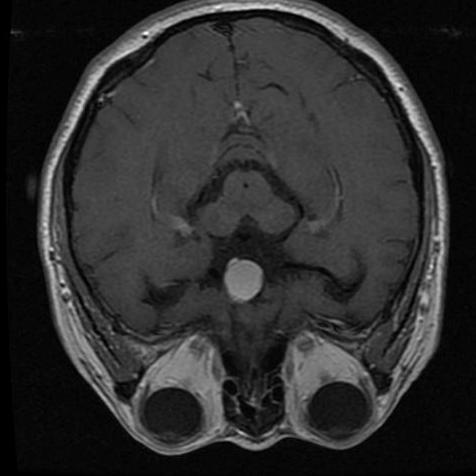Tumour-Pituitary: (213, 256, 276, 305)
